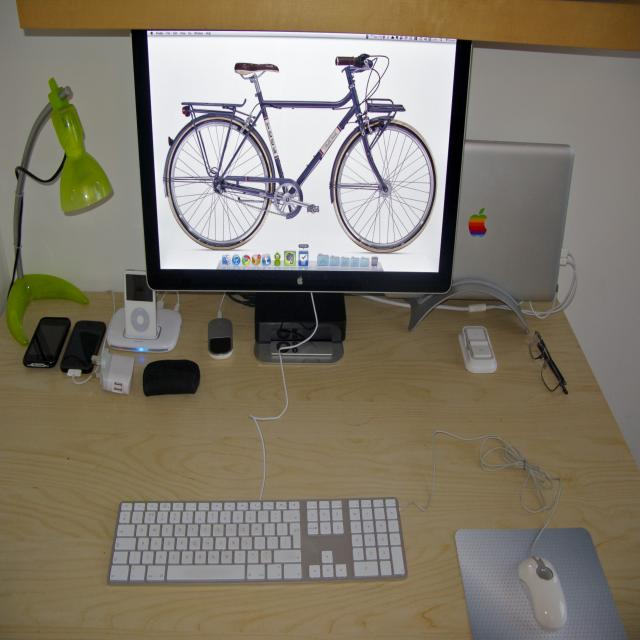keyboard: (106, 495, 408, 581)
